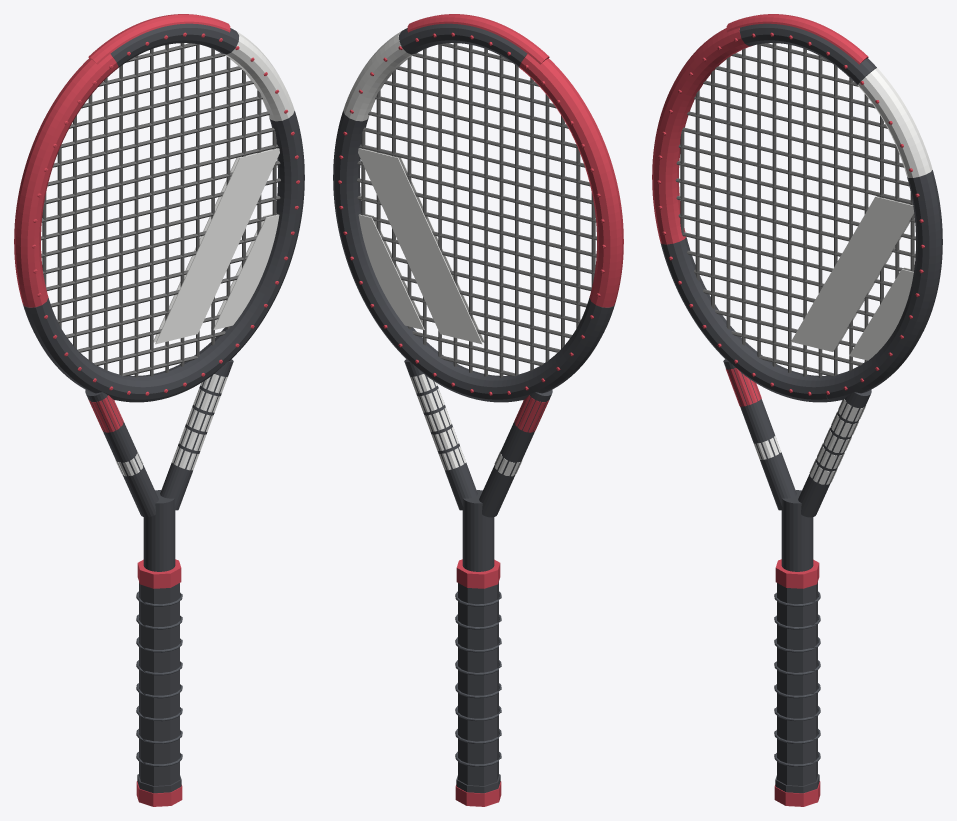
Rendered from tecnifibre-tfight-300-isoflex.glb.
The picture shows the model from 3 angles, left to right: view 1: azimuth 30°, elevation 25°; view 2: azimuth 150°, elevation 25°; view 3: azimuth 330°, elevation 25°; orthographic projection.
Parts seen in each view (by area): view 1: strings, frame, stencil, frame_black, handle, frame_white, throat, shaft, wraps, collar, grommets, cap; view 2: strings, frame, stencil, frame_black, handle, frame_white, throat, shaft, wraps, collar, grommets, cap; view 3: strings, frame, stencil, frame_black, handle, frame_white, throat, shaft, wraps, collar, grommets, cap.
Boxes of the visible parts, bbox=[...] form: strings: bbox=[41, 43, 280, 377]; frame: bbox=[23, 23, 304, 402]; stencil: bbox=[153, 148, 279, 344]; frame_black: bbox=[14, 14, 230, 432]; handle: bbox=[139, 582, 179, 785]; frame_white: bbox=[115, 31, 294, 476]; throat: bbox=[85, 359, 233, 517]; shaft: bbox=[143, 490, 175, 571]; wraps: bbox=[136, 591, 182, 766]; collar: bbox=[137, 559, 181, 588]; grommets: bbox=[32, 32, 299, 395]; cap: bbox=[136, 781, 182, 806]; strings: bbox=[357, 43, 596, 377]; frame: bbox=[333, 23, 614, 402]; stencil: bbox=[358, 148, 484, 344]; frame_black: bbox=[407, 14, 623, 432]; handle: bbox=[458, 582, 498, 785]; frame_white: bbox=[343, 31, 522, 476]; throat: bbox=[404, 359, 552, 517]; shaft: bbox=[462, 490, 494, 571]; wraps: bbox=[455, 591, 501, 766]; collar: bbox=[456, 559, 500, 588]; grommets: bbox=[338, 32, 605, 395]; cap: bbox=[455, 781, 501, 806]; strings: bbox=[675, 43, 915, 377]; frame: bbox=[660, 23, 942, 402]; stencil: bbox=[791, 196, 914, 360]; frame_black: bbox=[652, 14, 868, 406]; handle: bbox=[777, 582, 817, 785]; frame_white: bbox=[753, 68, 932, 484]; throat: bbox=[723, 359, 871, 517]; shaft: bbox=[781, 490, 813, 571]; wraps: bbox=[774, 591, 820, 766]; collar: bbox=[775, 559, 819, 588]; grommets: bbox=[657, 32, 924, 395]; cap: bbox=[774, 781, 820, 806].
Size of the model in its own units: 0.272 by 0.7055 by 0.039.
